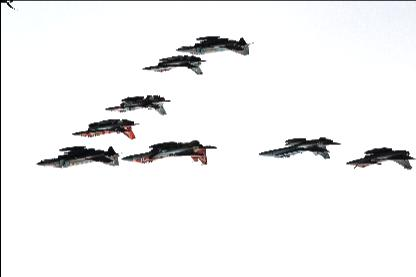F117: (121, 140, 217, 165)
F14: (69, 119, 139, 138), (104, 95, 170, 114), (140, 55, 206, 74)
F15: (257, 137, 341, 158)
F35: (34, 145, 124, 167), (173, 35, 254, 54)
RQ4: (344, 147, 415, 170)
